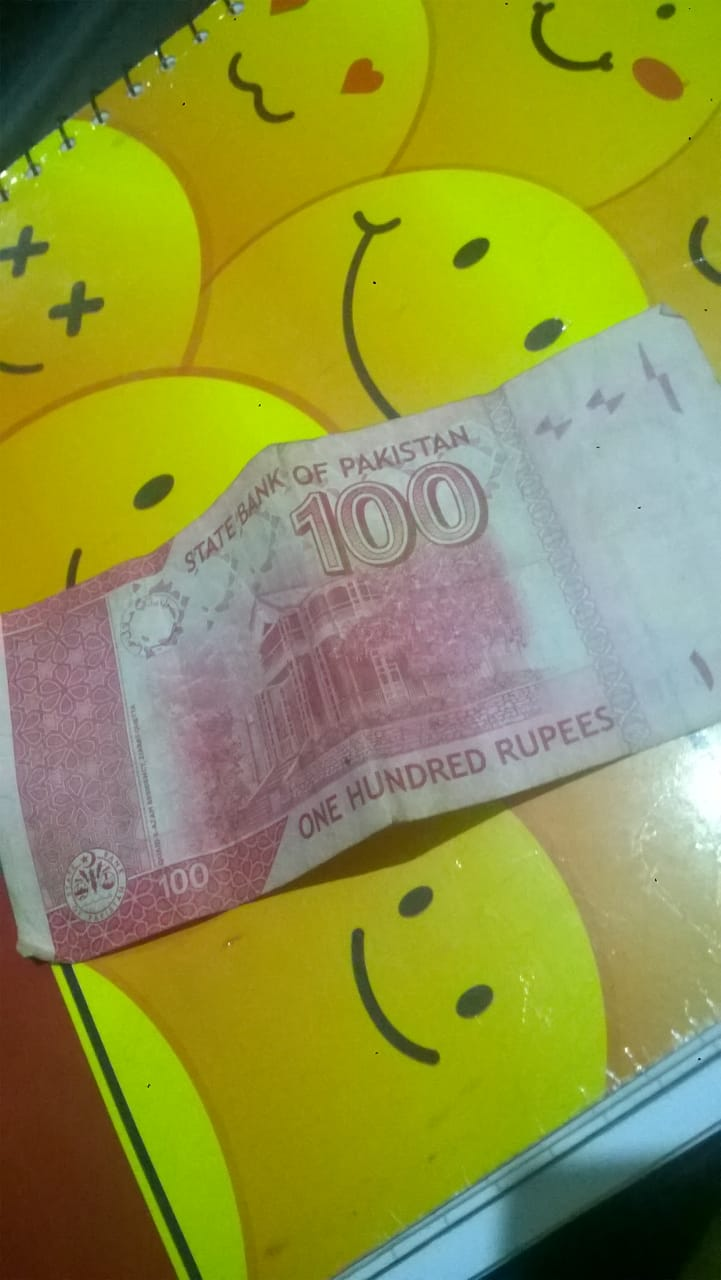100 rupee: (4, 316, 721, 964)
